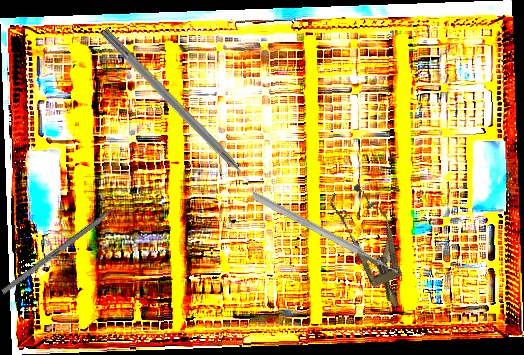Pusher: (98, 26, 266, 201), (0, 191, 136, 295), (250, 190, 400, 277)
Speculum: (325, 178, 420, 316)
